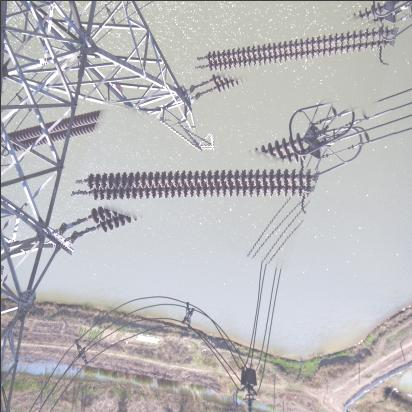insulator: (76, 115, 315, 254), (199, 1, 395, 107)
